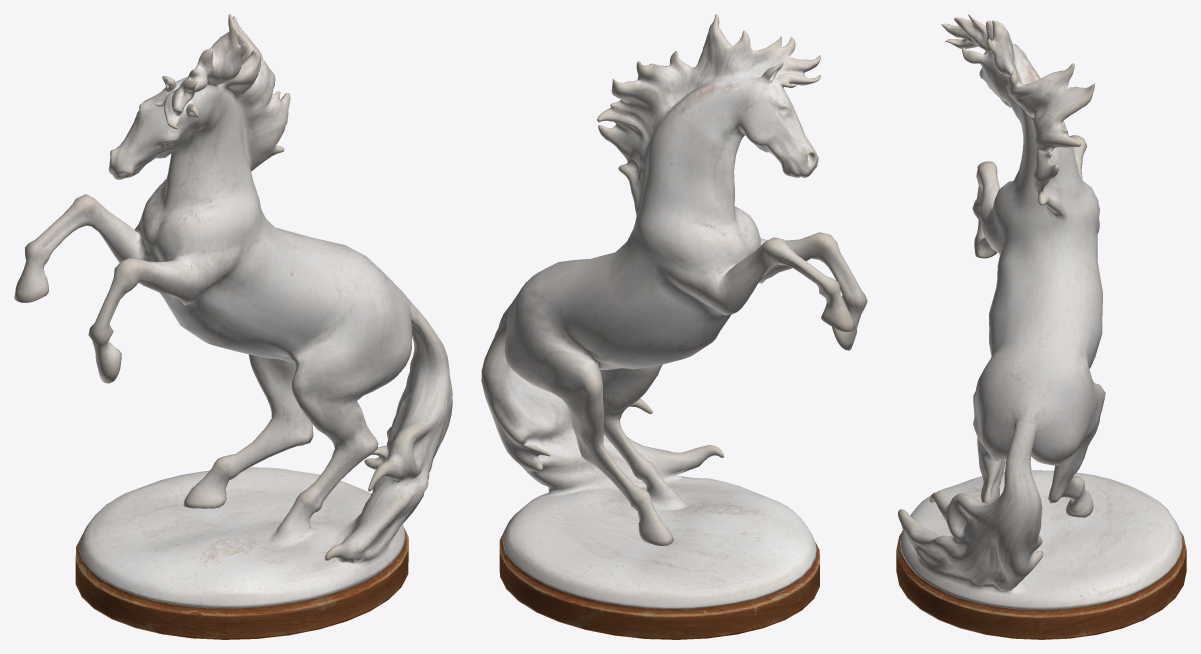
File: horse_statue_01_4k.glb
3 renders of one model, left to right at view 1: azimuth 30°, elevation 25°; view 2: azimuth 150°, elevation 25°; view 3: azimuth 270°, elevation 25°, orthographic. The views are drawn at different scales.
Visible parts, largest first — view 1: horse_statue_01; view 2: horse_statue_01; view 3: horse_statue_01.
Part boxes in pixels (left/top/right/bottom): horse_statue_01: left=14, top=14, right=452, bottom=639; horse_statue_01: left=481, top=14, right=867, bottom=639; horse_statue_01: left=896, top=14, right=1186, bottom=639.
Bounding box in the file's own units: 0.1638 × 0.22 × 0.1078.
Materials: 2 (2 with a texture image).
